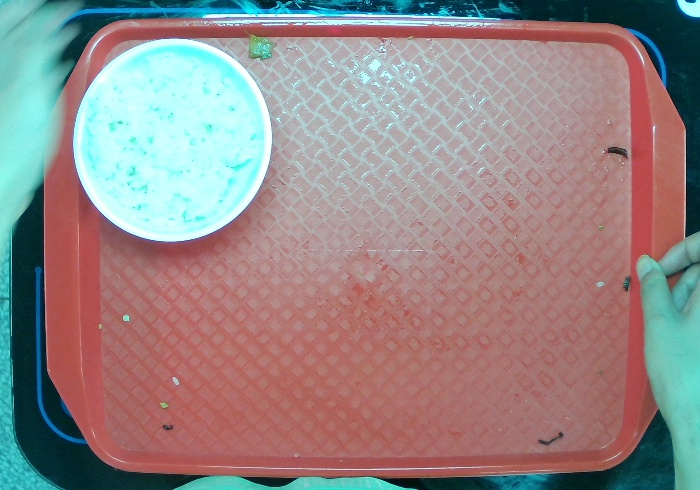YKMZ-Fan_Wan: (61, 32, 284, 253)
